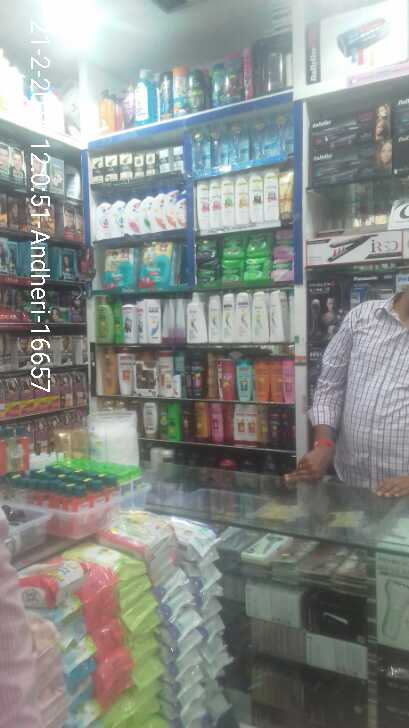venus: (228, 117, 252, 160), (273, 112, 294, 155), (188, 126, 209, 169), (252, 117, 273, 155), (211, 128, 227, 164)
